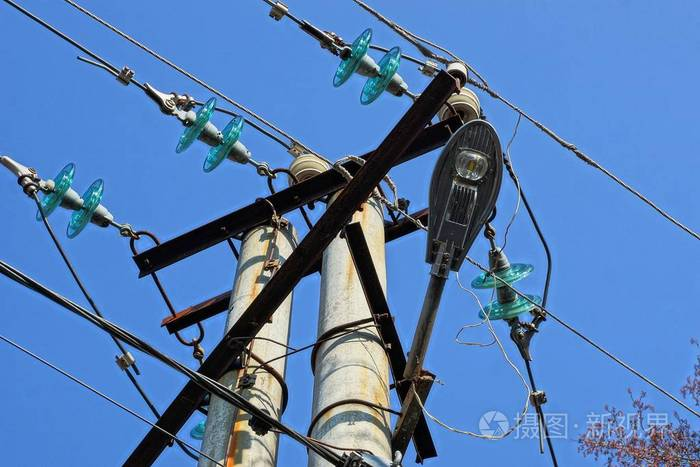insulator: (36, 161, 108, 239), (174, 94, 242, 176), (334, 26, 403, 105), (469, 264, 541, 321)
